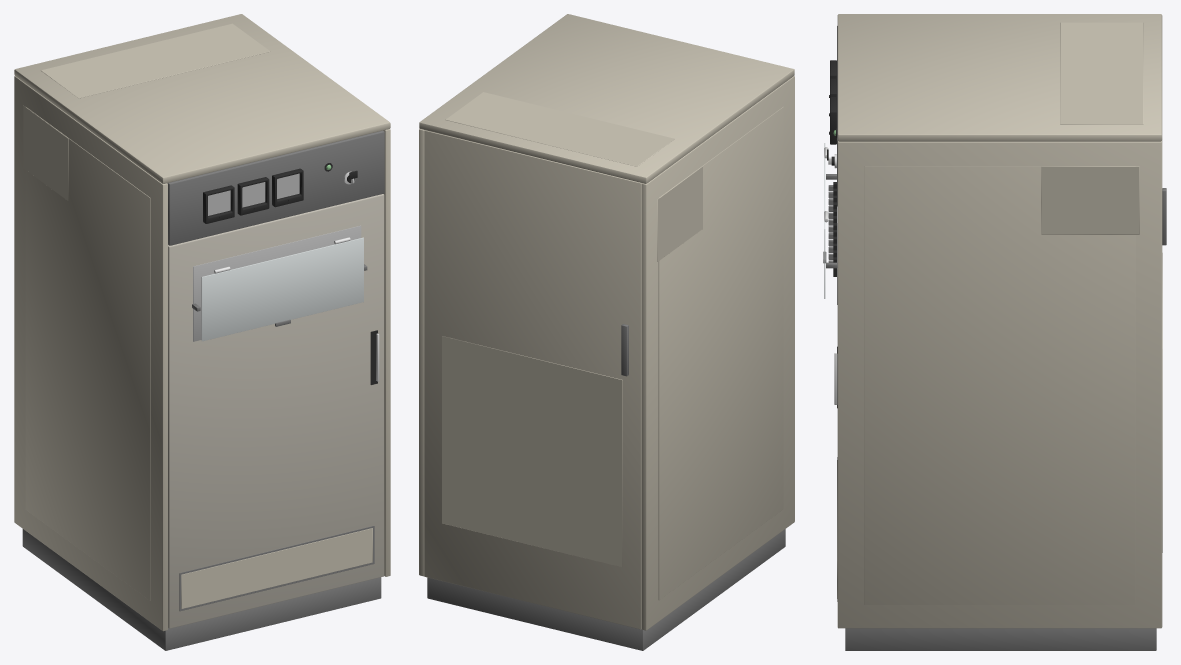
The model's file is Kit_SystemCabinet_PDU.fbx.
The picture shows the model from 3 angles, left to right: view 1: azimuth 30°, elevation 25°; view 2: azimuth 150°, elevation 25°; view 3: azimuth 270°, elevation 25°; orthographic projection. The views are drawn at different scales.
Visible parts, largest first — view 1: Kit_SystemCabinet_PDU_LOD0; view 2: Kit_SystemCabinet_PDU_LOD0; view 3: Kit_SystemCabinet_PDU_LOD0.
Boxes of the visible parts, box(x1,y1,x2,y2) form: Kit_SystemCabinet_PDU_LOD0: box(14, 14, 390, 650); Kit_SystemCabinet_PDU_LOD0: box(419, 14, 794, 650); Kit_SystemCabinet_PDU_LOD0: box(823, 14, 1166, 650).
Size of what is drawn, in the model's own units: 0.7671 by 1.52 by 0.91.
